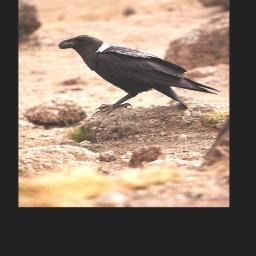Crow: (56, 32, 221, 119)
